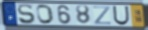6: (56, 4, 72, 25)
8: (75, 5, 91, 26)
O: (36, 4, 55, 25)
S: (17, 3, 37, 25)
U: (112, 5, 130, 26)
Z: (93, 6, 112, 26)
